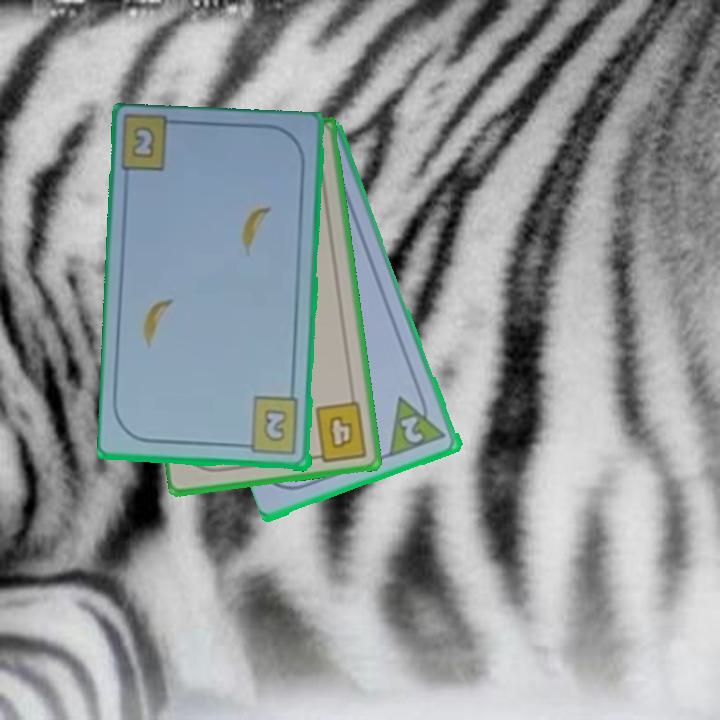2b: (238, 395, 302, 458), (128, 122, 158, 162)
2p: (397, 413, 427, 447)
4b: (307, 398, 371, 465)
